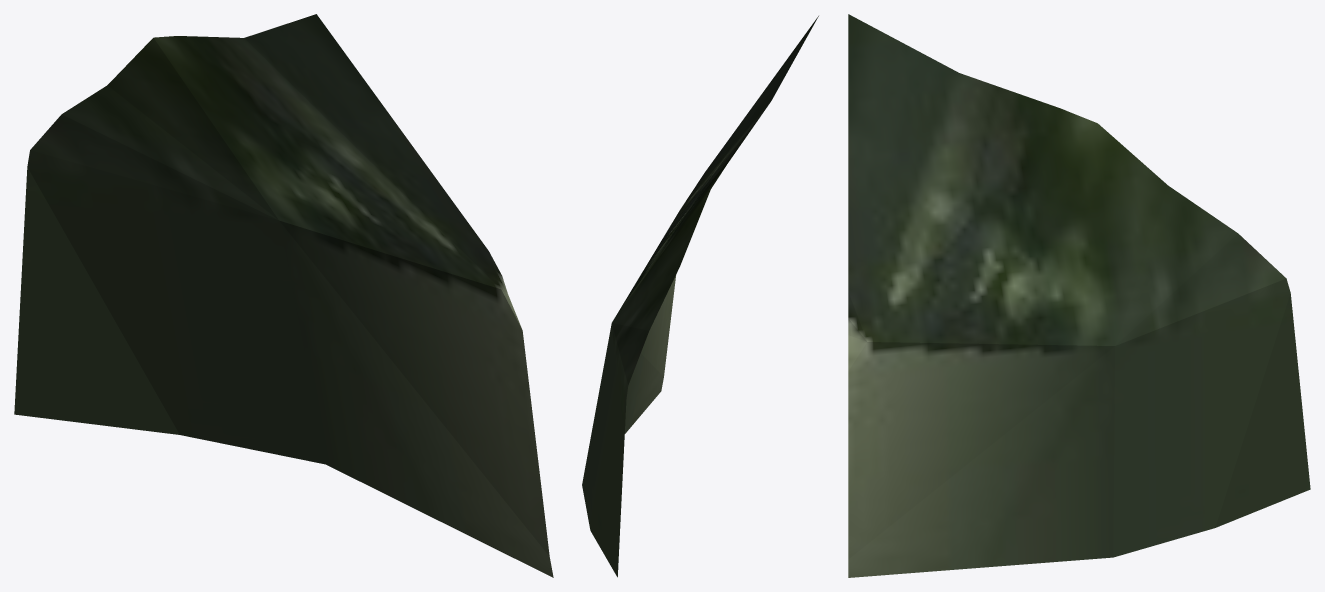
The picture shows the model from 3 angles, left to right: view 1: azimuth 30°, elevation 25°; view 2: azimuth 150°, elevation 25°; view 3: azimuth 270°, elevation 25°; orthographic projection. The views are drawn at different scales.
Bounding box in the file's own units: 0.3414 × 0.8557 × 0.7539.
1 material, 1 textured.
